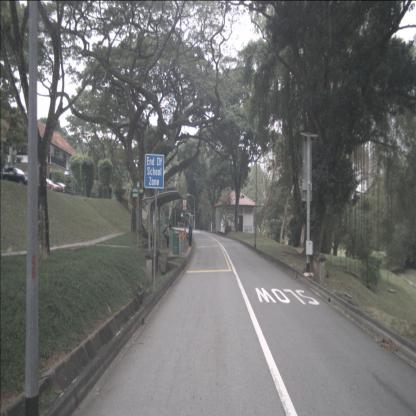human-pedestrian-adult: (163, 224, 172, 248), (188, 218, 193, 246)
vehicle-car: (0, 166, 32, 188), (32, 178, 60, 194), (49, 183, 70, 196)
